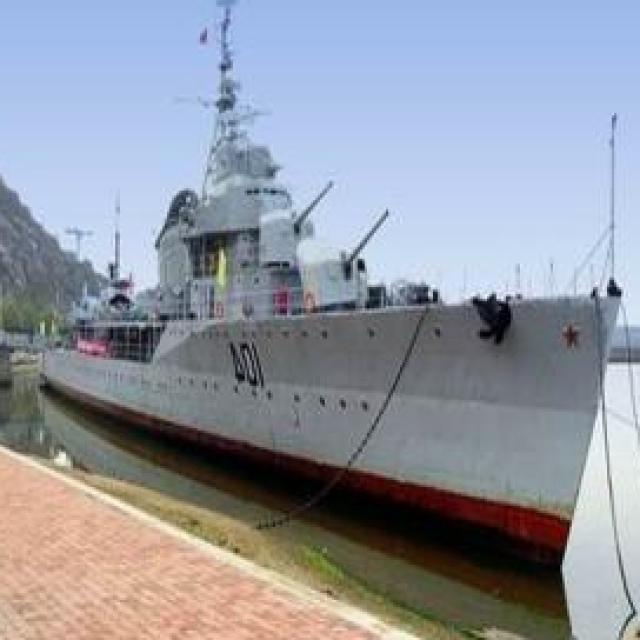navalvessels: (38, 0, 624, 555)
